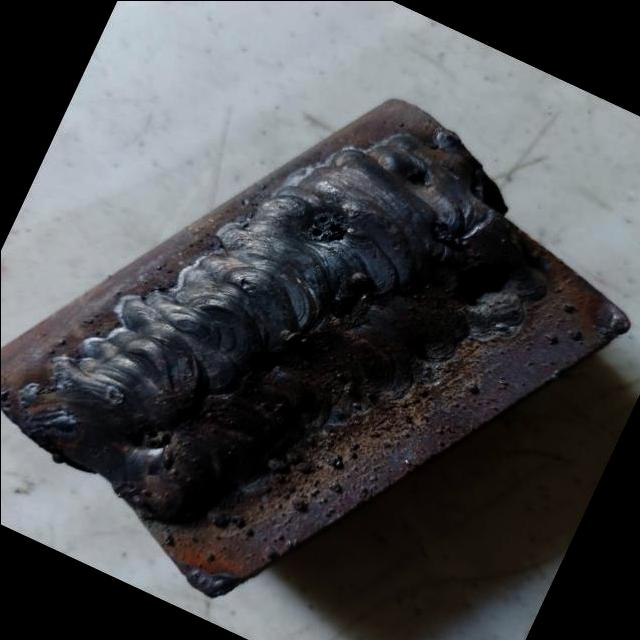defect: (300, 204, 352, 244), (426, 216, 474, 256), (122, 424, 180, 453), (404, 164, 437, 191), (243, 352, 274, 375), (103, 384, 122, 402)
